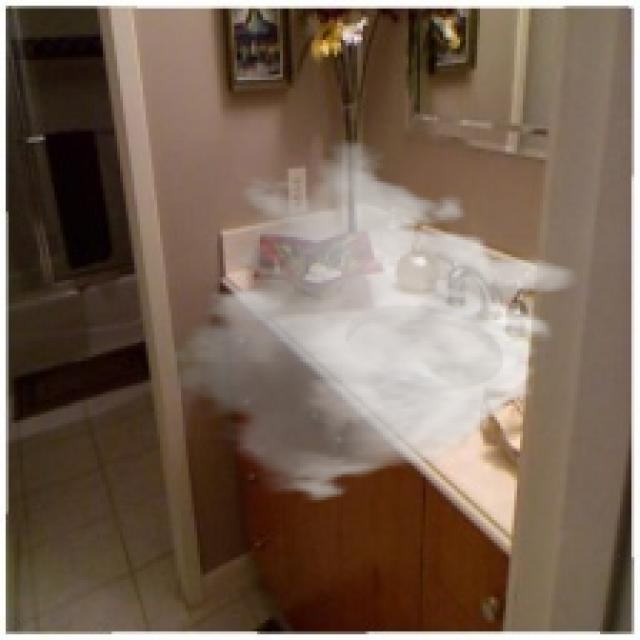smoke: (160, 140, 580, 506)
